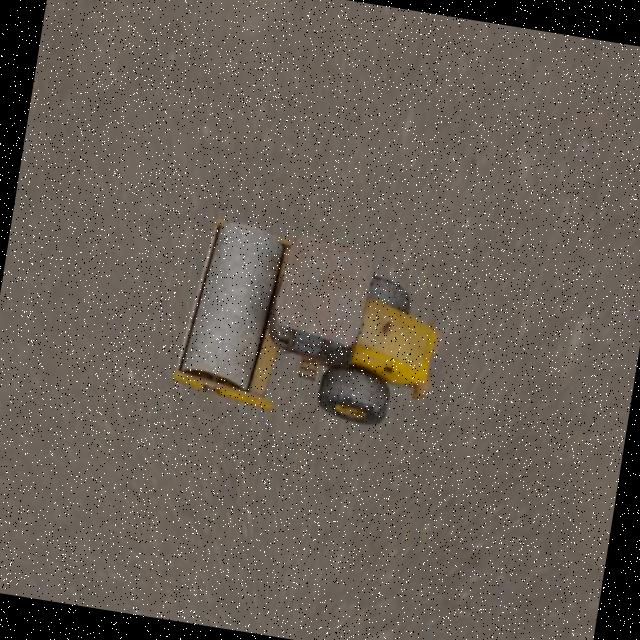Roller: (169, 214, 454, 436)
